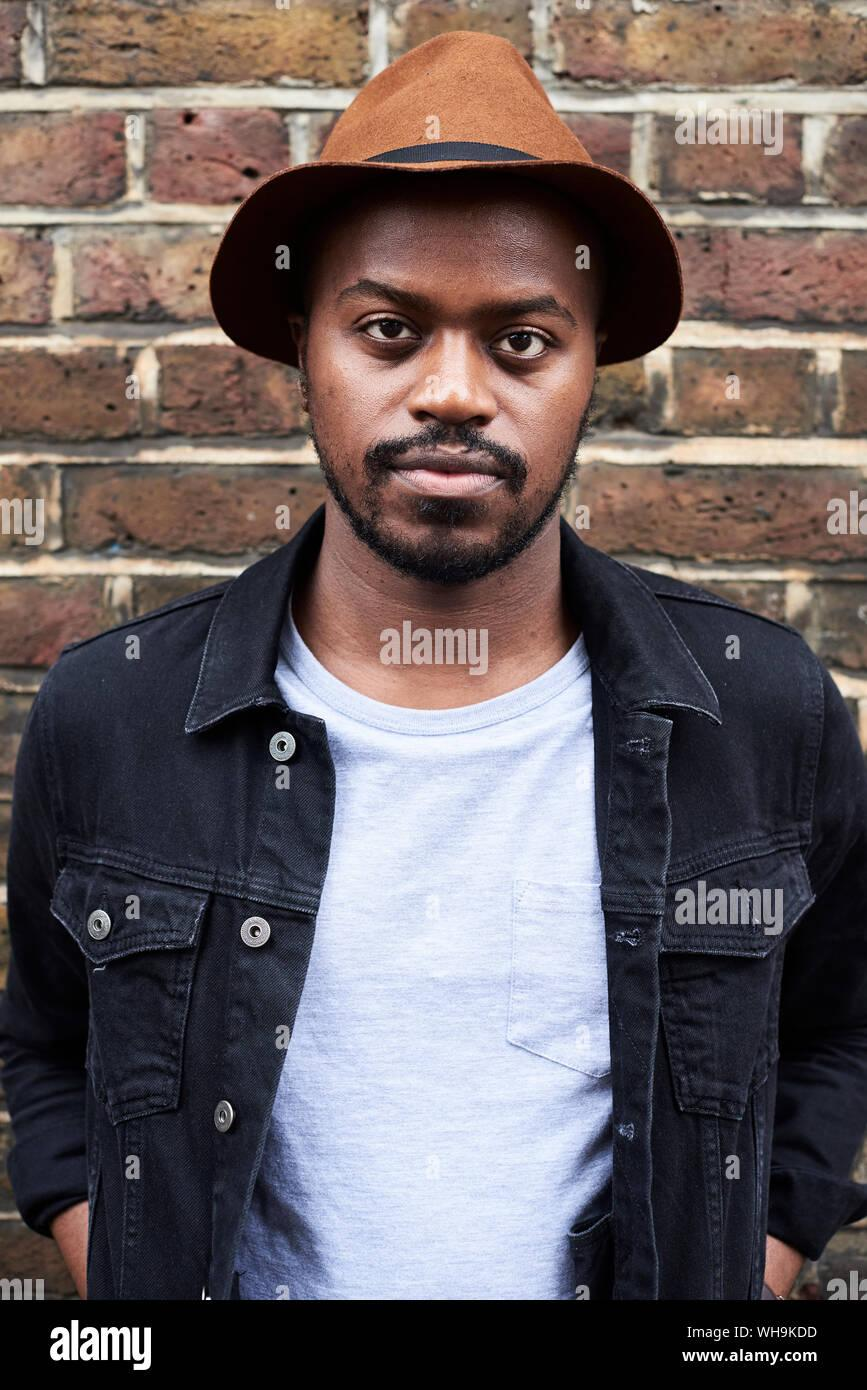cap: (166, 0, 756, 396)
